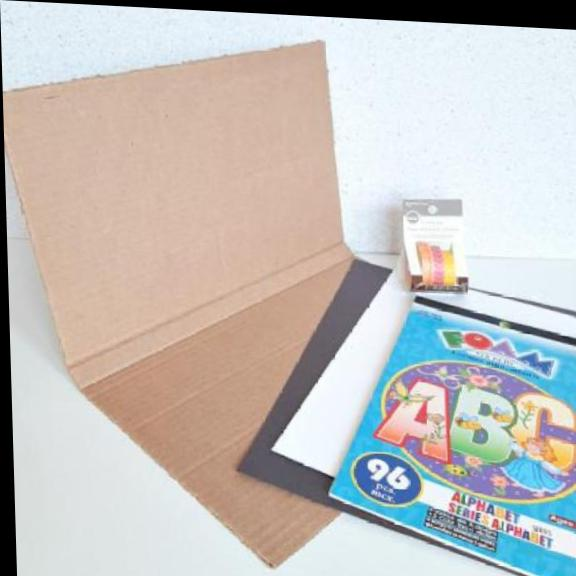Kertas: (4, 43, 364, 564)
